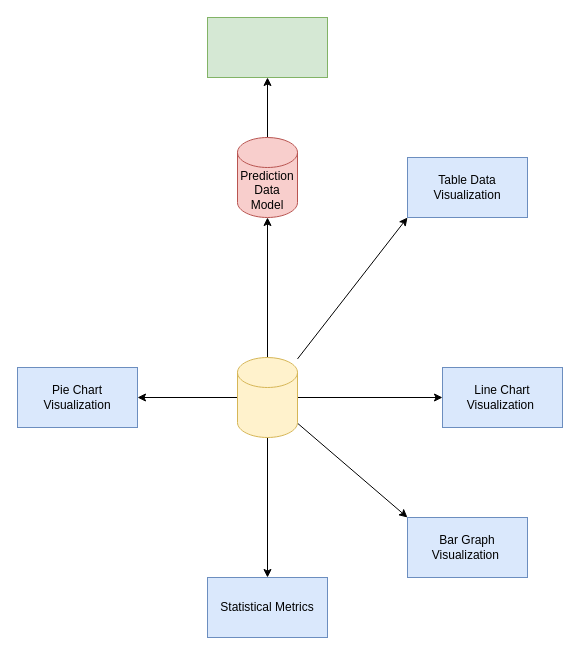
Image size: 580x655. Some labels were removed from this diagram. Each missing label, with the centre of its shape:
"Logfile Data" belongs at (x=267, y=397).
"Predictor" belongs at (x=267, y=47).
